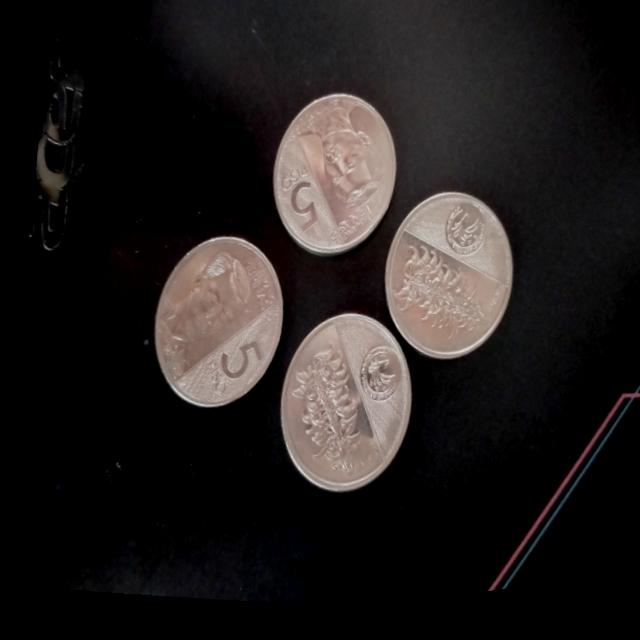5_New_Back: (362, 229, 501, 370), (267, 353, 380, 487)
5_New_Front: (190, 328, 271, 417), (260, 161, 327, 245)
